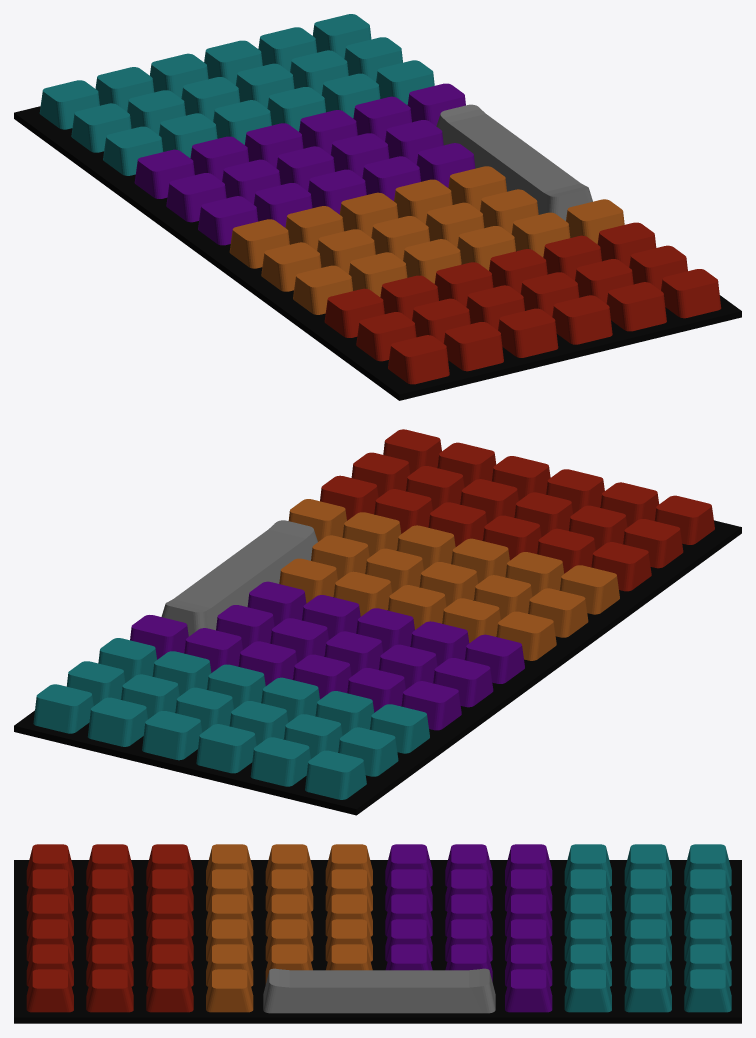
File: Teclado.fbx
3 views of the same model, one above another, from view 1: azimuth 30°, elevation 25°; view 2: azimuth 150°, elevation 25°; view 3: azimuth 270°, elevation 25° (orthographic). The views are drawn at different scales.
Parts seen in each view (by area): view 1: Teclado; view 2: Teclado; view 3: Teclado.
Boxes of the visible parts, x1,y1,x2,y2 form: Teclado: (14,14,741,400); Teclado: (14,429,741,815); Teclado: (14,844,741,1023).
Bounding box in the file's own units: 425 × 39.72 × 827.
